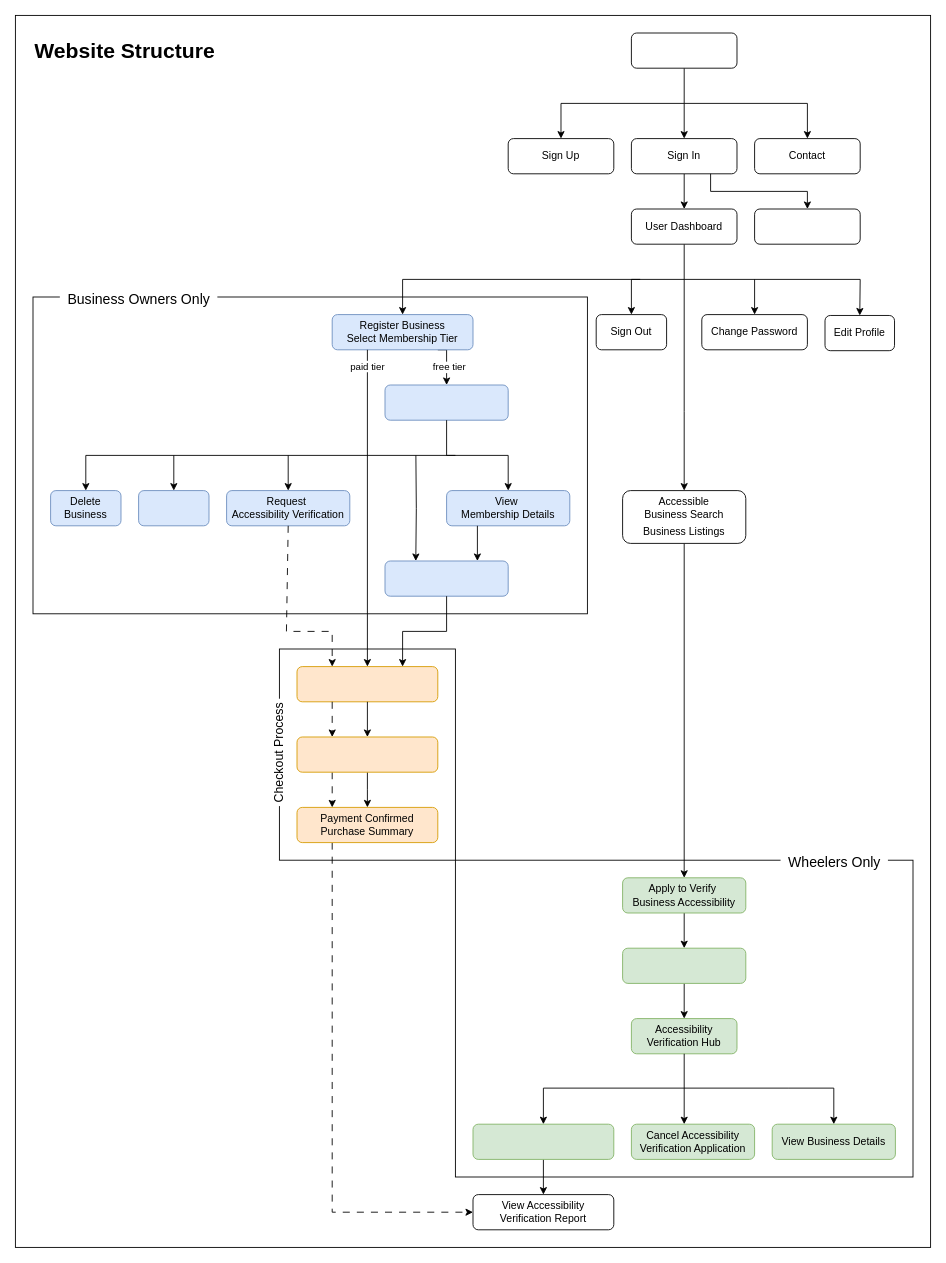
Some shapes in this 946 by 1263 pixel diagram are drawn without their labels. Here are the shapes that lost their labels. From the top down, the box of each, then its label:
(631, 32, 737, 68): Landing Page
(754, 208, 860, 244): Reset Password
(384, 384, 508, 420): Business Dashboard
(138, 490, 209, 526): Edit Business
(384, 560, 508, 596): Upgrade Membership
(296, 666, 438, 702): Checkout Form
(296, 736, 438, 772): Stripe Payment Processing
(622, 947, 746, 983): Applcation Submitted
(472, 1123, 614, 1159): Acessibility Verification Report Form
